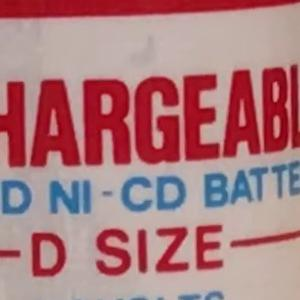NI-CD: (39, 166, 196, 224)
